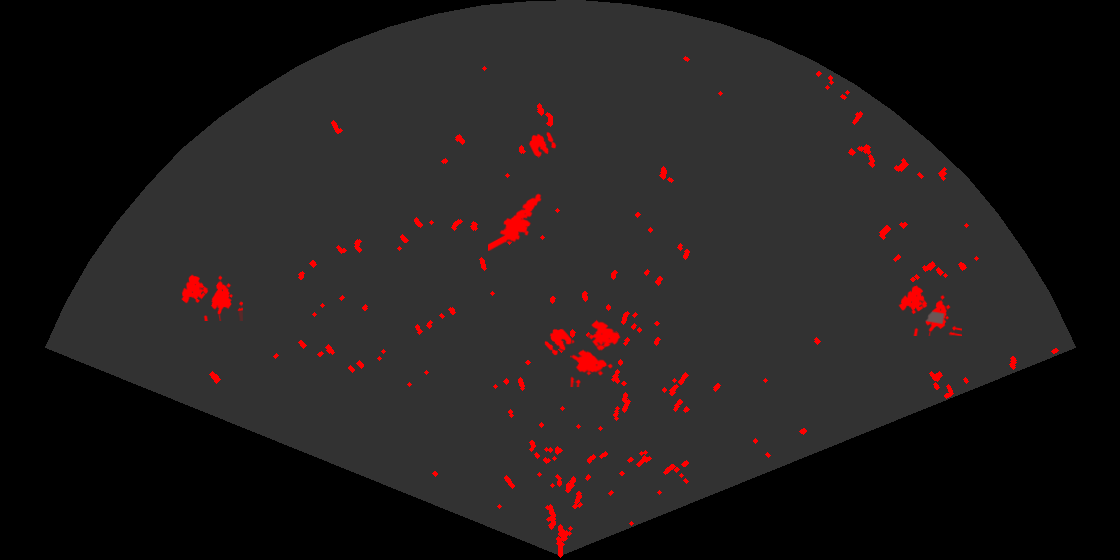ball: (543, 327, 573, 357), (527, 130, 558, 159)
cage: (570, 318, 622, 387), (897, 284, 962, 336), (180, 273, 243, 321)
frogman: (488, 192, 543, 251)
